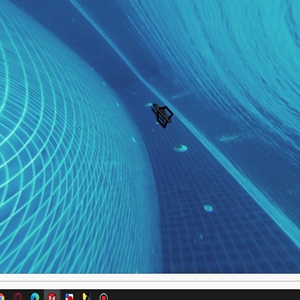submarine: (150, 104, 173, 127)
